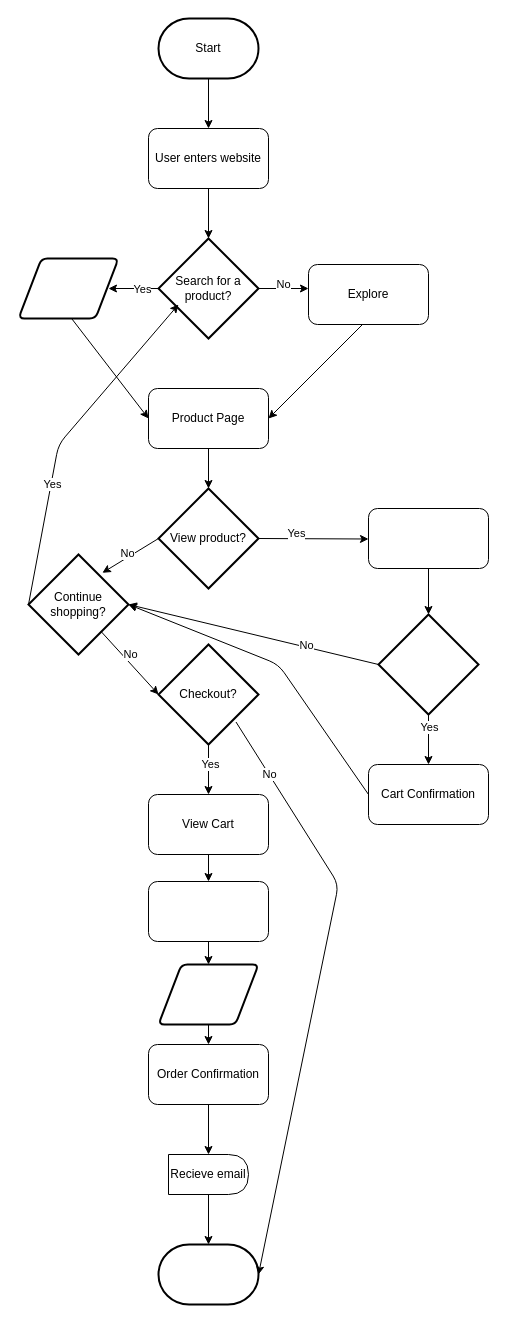
Image size: 506x1322. Some labels were removed from this diagram. The centre of each missing label's shape, as x and y in pixels:
"Add to Cart?" belongs at pixel 428 664.
"End" belongs at pixel 208 1274.
"Payment Information" belongs at pixel 208 994.
"Product Webpage" belongs at pixel 428 538.
"Search Input" belongs at pixel 68 288.
"View Payment" belongs at pixel 208 911.
